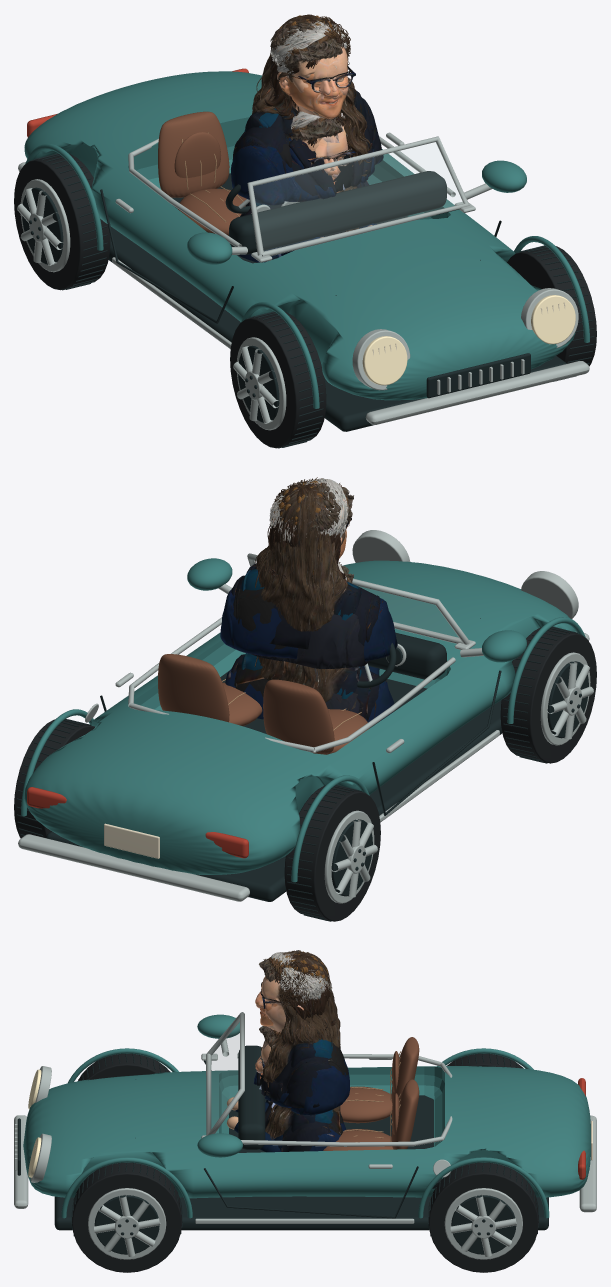
File: racer-kit-mobile.glb
3 views of the same model, one above another, from view 1: azimuth 30°, elevation 25°; view 2: azimuth 150°, elevation 25°; view 3: azimuth 270°, elevation 25° (orthographic). The views are drawn at different scales.
Visible parts, largest first — view 1: Vehicle / Coupe paint, Vehicle / Charcoal, Windscreen, Vehicle / Satin aluminium, Vehicle / Saddle leather, Road tire.001, Road tire, dario / portrait sculpture, elon / portrait sculpture, Vehicle / Warm headlight, Road tire.003, jensen / portrait sculpture (+10 smaller); view 2: Vehicle / Coupe paint, Vehicle / Satin aluminium, Vehicle / Saddle leather, Vehicle / Charcoal, mira / portrait sculpture, Road tire, Road tire.001, sam / portrait sculpture, dario / portrait sculpture, Wheel_RL / Satin aluminium, Wheel_FL / Satin aluminium, jensen / portrait sculpture (+13 smaller); view 3: Vehicle / Coupe paint, Vehicle / Charcoal, Vehicle / Satin aluminium, Road tire.003, Road tire.002, Vehicle / Saddle leather, dario / portrait sculpture, mira / portrait sculpture, Wheel_RR / Satin aluminium, Wheel_FR / Satin aluminium, elon / portrait sculpture, Windscreen (+10 smaller).
Part boxes in pixels (<box>): Vehicle / Coupe paint: <box>24,71,589,408</box>; Vehicle / Charcoal: <box>100,171,566,431</box>; Windscreen: <box>254,142,463,250</box>; Vehicle / Satin aluminium: <box>18,132,589,424</box>; Vehicle / Saddle leather: <box>158,111,367,235</box>; Road tire.001: <box>230,312,326,448</box>; Road tire: <box>14,154,110,290</box>; dario / portrait sculpture: <box>231,15,383,205</box>; elon / portrait sculpture: <box>233,21,381,196</box>; Vehicle / Warm headlight: <box>362,295,575,385</box>; Road tire.003: <box>507,246,596,366</box>; jensen / portrait sculpture: <box>270,20,352,167</box>; Vehicle / Coupe paint: <box>21,558,585,882</box>; Vehicle / Satin aluminium: <box>18,530,589,901</box>; Vehicle / Saddle leather: <box>158,654,369,754</box>; Vehicle / Charcoal: <box>46,618,502,901</box>; mira / portrait sculpture: <box>246,483,361,631</box>; Road tire: <box>284,785,380,921</box>; Road tire.001: <box>500,627,596,763</box>; sam / portrait sculpture: <box>251,482,369,668</box>; dario / portrait sculpture: <box>220,478,397,661</box>; Wheel_RL / Satin aluminium: <box>324,810,377,903</box>; Wheel_FL / Satin aluminium: <box>540,652,593,745</box>; jensen / portrait sculpture: <box>233,478,351,654</box>; Vehicle / Coupe paint: <box>23,1014,590,1218</box>; Vehicle / Charcoal: <box>17,1045,548,1230</box>; Vehicle / Satin aluminium: <box>14,1012,596,1223</box>; Road tire.003: <box>72,1162,182,1272</box>; Road tire.002: <box>428,1162,538,1272</box>; Vehicle / Saddle leather: <box>323,1037,419,1150</box>; dario / portrait sculpture: <box>253,955,350,1115</box>; mira / portrait sculpture: <box>263,952,340,1095</box>; Wheel_RR / Satin aluminium: <box>444,1188,522,1259</box>; Wheel_FR / Satin aluminium: <box>88,1188,166,1259</box>; elon / portrait sculpture: <box>256,953,331,1108</box>; Windscreen: <box>210,1020,239,1129</box>.
Size of the model in its own units: 2.2 by 1.99 by 4.07.
31 materials, 7 textured.
